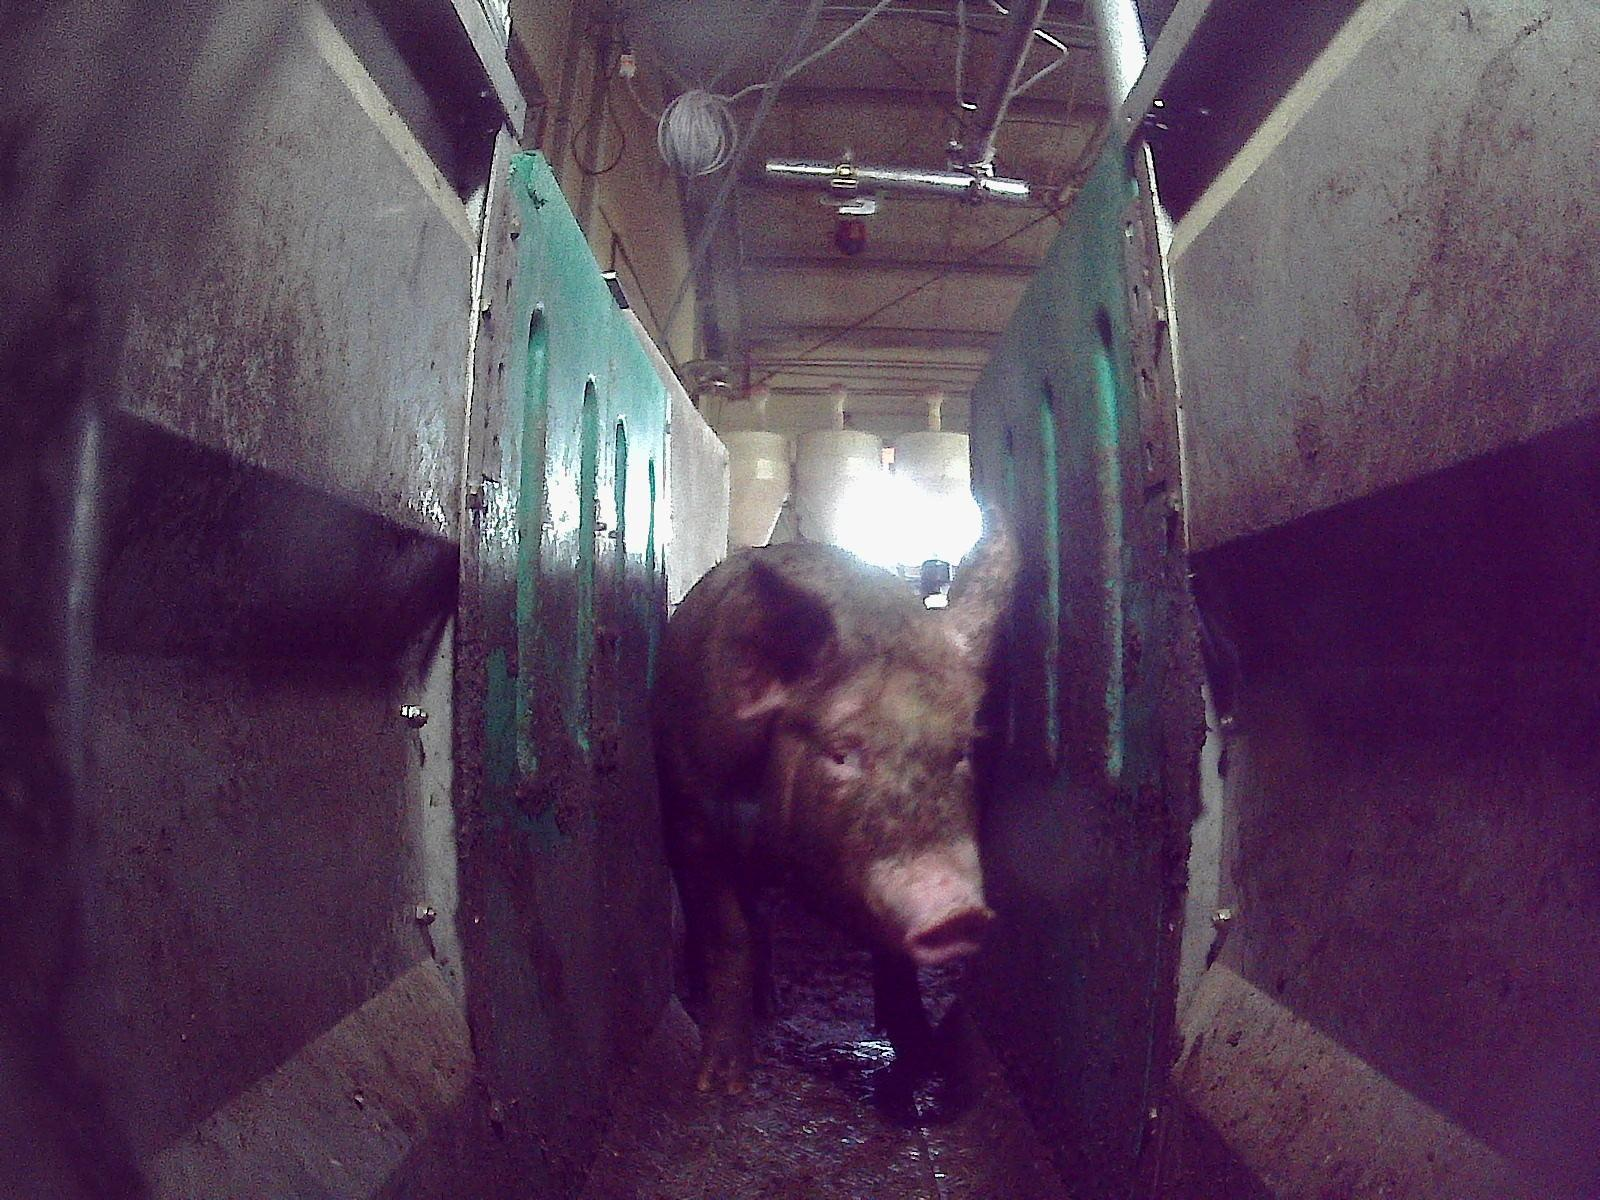Face: (764, 619, 994, 960)
